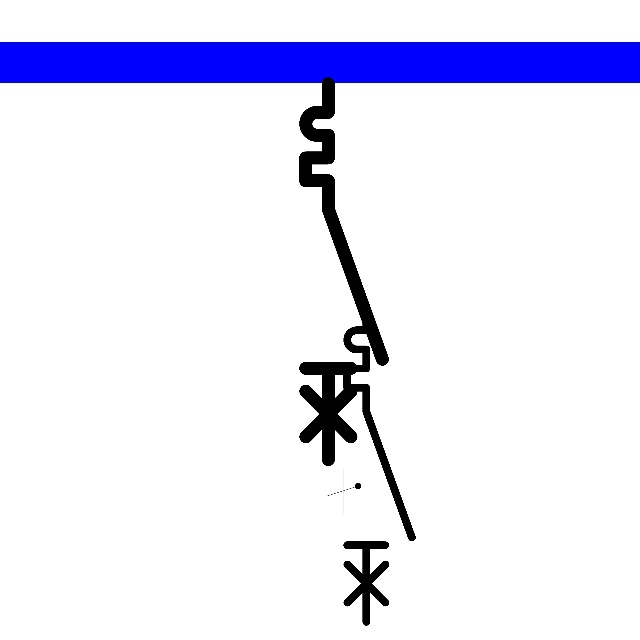interruptor_termomagnetico: (296, 74, 392, 469), (339, 298, 420, 630)
